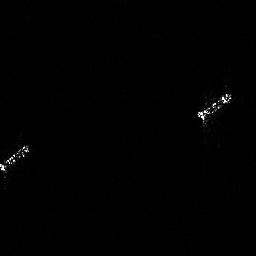ship: (193, 90, 235, 126), (1, 140, 34, 178)
